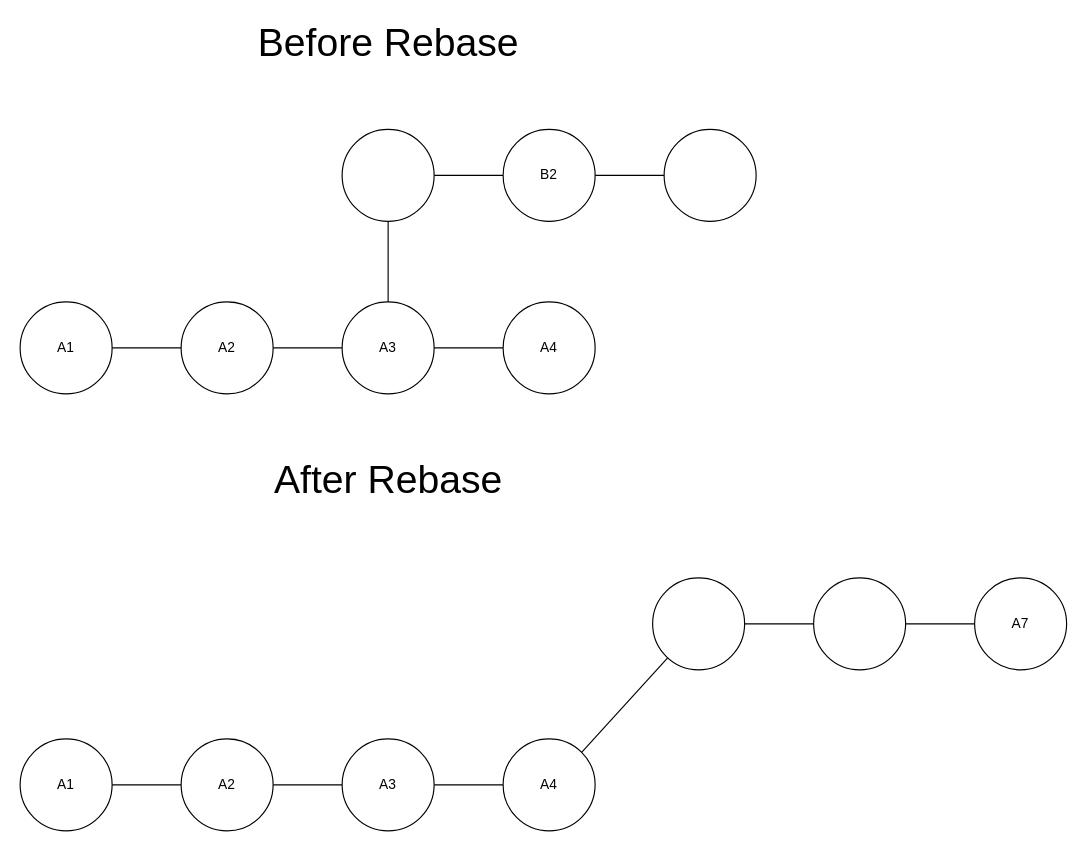
Image size: 1087x851. Some labels were removed from this diagram. Here are the shapes that lost their labels. From the top down, the box of each, then its label:
(341, 128, 434, 221): B1
(663, 128, 756, 221): B3
(651, 577, 745, 670): A5
(812, 577, 906, 670): A6
